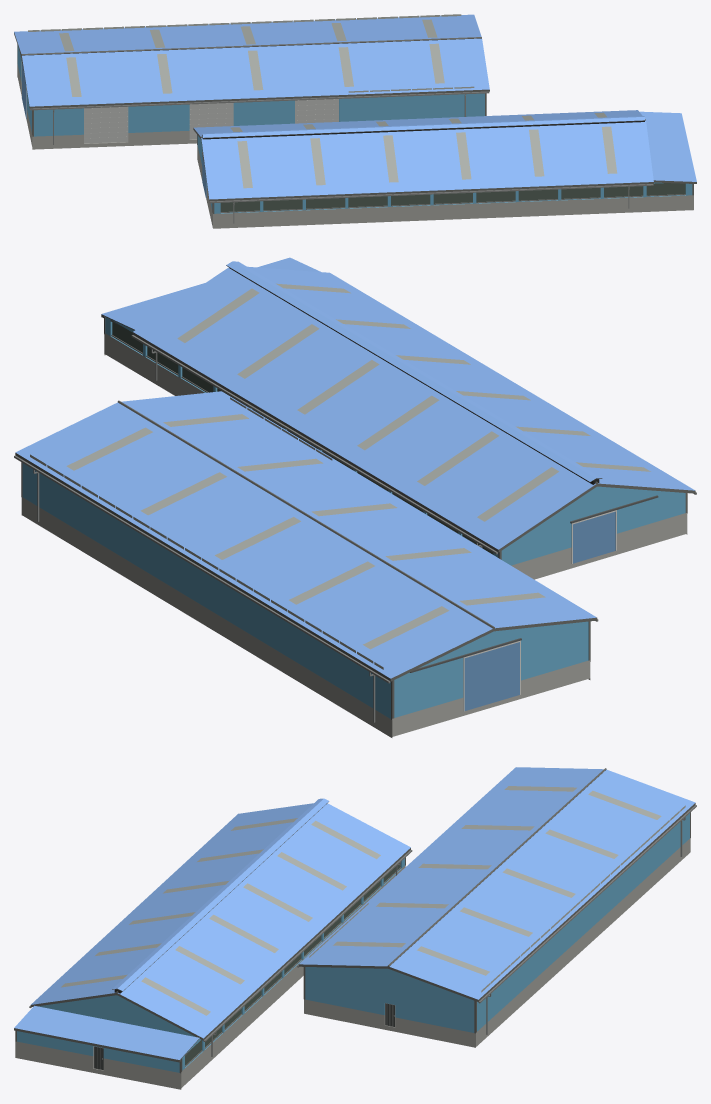
Rendered from fb_pair_1170.glb.
3 renders of one model, top to bottom at view 1: azimuth 30°, elevation 25°; view 2: azimuth 150°, elevation 25°; view 3: azimuth 270°, elevation 25°, orthographic. The views are drawn at different scales.
Visible parts, largest first — view 1: vh_roof, vh_plinth, vh_sheet, vh_trim, vh_light, vh_net, vh_frames_small, vh_metal_small; view 2: vh_roof, vh_sheet, vh_plinth, vh_light, vh_trim, vh_door, vh_frames_small, vh_net, vh_metal_small; view 3: vh_roof, vh_sheet, vh_plinth, vh_light, vh_trim, vh_frames_small, vh_net.
Part boxes in pixels (x1=…): vh_roof: x1=14, y1=14, x2=696, y2=199; vh_plinth: x1=17, y1=64, x2=693, y2=228; vh_sheet: x1=17, y1=45, x2=692, y2=213; vh_trim: x1=14, y1=32, x2=696, y2=213; vh_light: x1=28, y1=14, x2=617, y2=188; vh_net: x1=220, y1=183, x2=685, y2=211; vh_frames_small: x1=30, y1=91, x2=653, y2=223; vh_metal_small: x1=20, y1=52, x2=685, y2=212; vh_roof: x1=15, y1=257, x2=694, y2=678; vh_sheet: x1=22, y1=317, x2=685, y2=718; vh_plinth: x1=21, y1=333, x2=687, y2=737; vh_light: x1=30, y1=283, x2=650, y2=669; vh_trim: x1=15, y1=265, x2=695, y2=719; vh_door: x1=464, y1=511, x2=615, y2=710; vh_frames_small: x1=14, y1=335, x2=696, y2=722; vh_net: x1=112, y1=322, x2=493, y2=554; vh_metal_small: x1=111, y1=335, x2=658, y2=672; vh_roof: x1=14, y1=767, x2=695, y2=1059; vh_sheet: x1=17, y1=813, x2=689, y2=1072; vh_plinth: x1=15, y1=838, x2=690, y2=1089; vh_light: x1=61, y1=786, x2=685, y2=1015; vh_trim: x1=14, y1=768, x2=695, y2=1073; vh_frames_small: x1=29, y1=805, x2=696, y2=1069; vh_net: x1=185, y1=863, x2=400, y2=1065.
Bounding box in the file's own units: 54.69 × 6.39 × 57.91.
